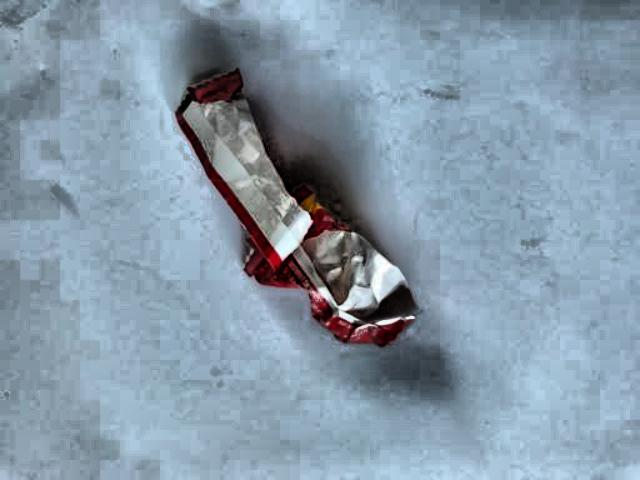Plastic: (174, 59, 440, 366)
